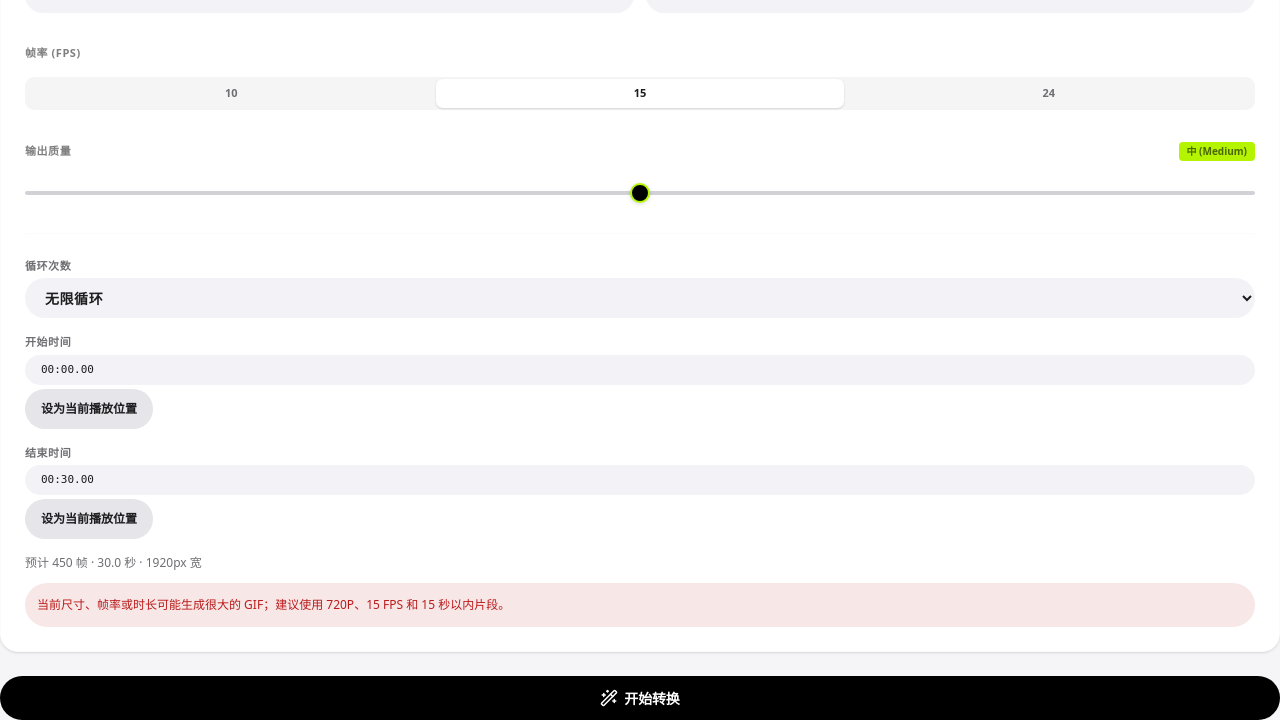
Test: GifMaker time range validation › shows validation error and skips create_gif when start time is greater than end time
(page scrolled)
Type "00:10.00" into the field labelled "开始时间".
click(640, 370); type("00:10.00")  # box [25,354,1255,384]
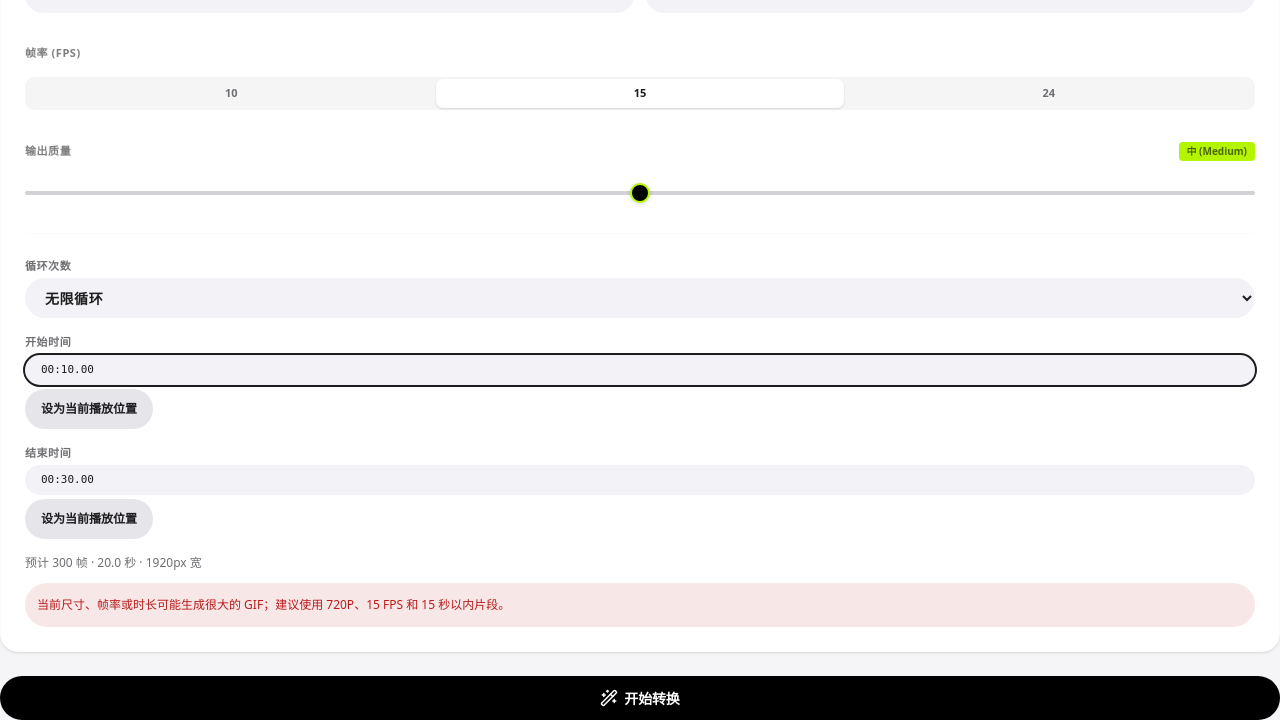
Replace the text in the field labelled "结束时间" with "00:05.00" at (640, 480), box [25,465,1255,495]
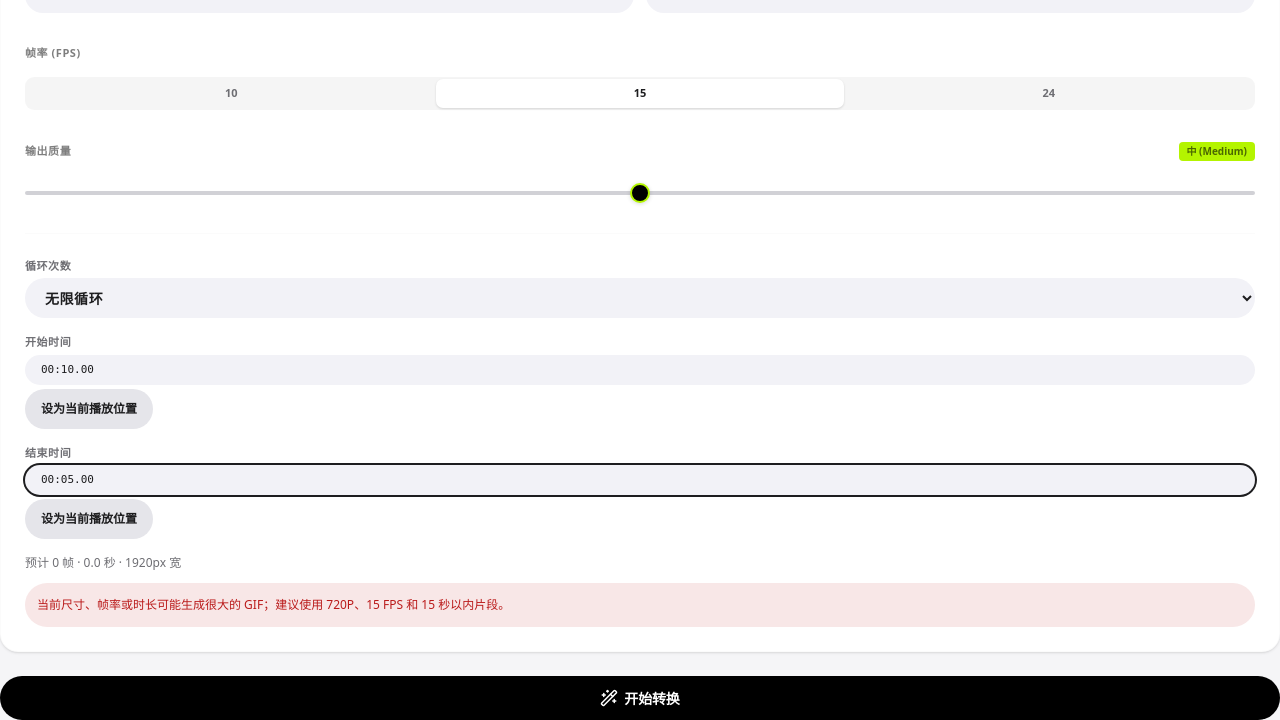
Click the button "开始转换".
click(640, 698)  # box [0,676,1279,719]
(page scrolled)
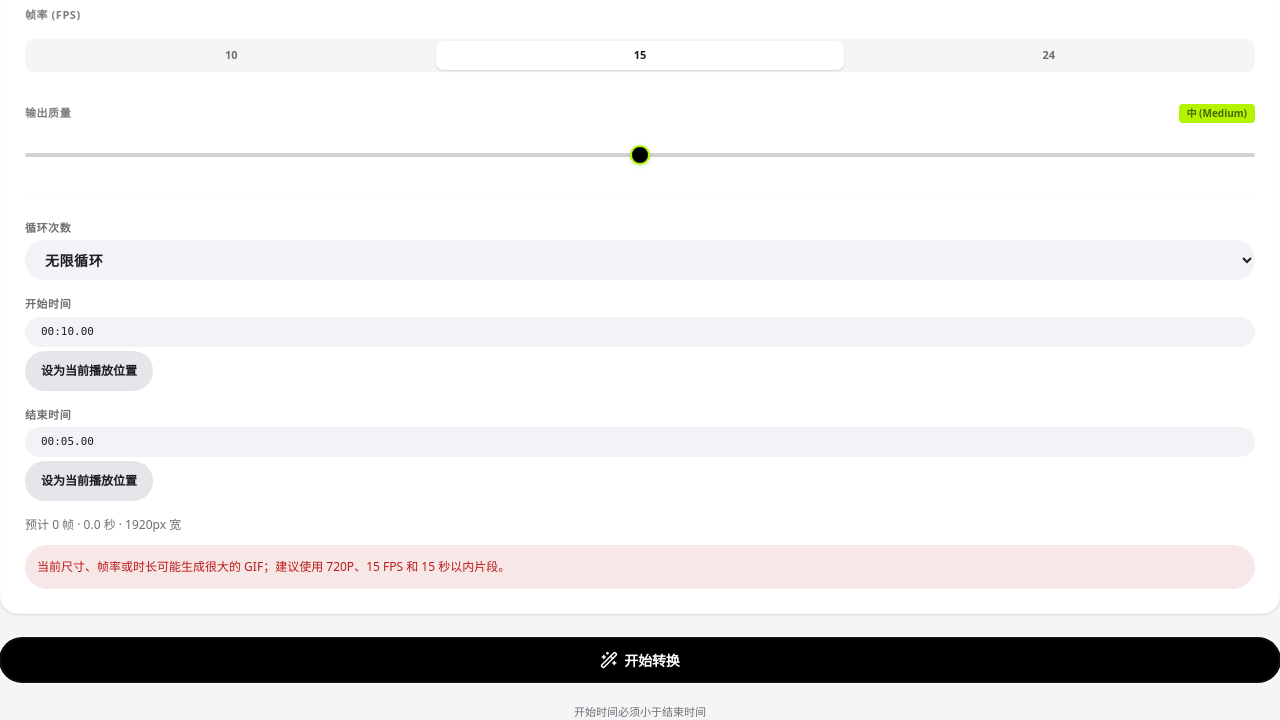
expect the text "开始时间必须小于结束时间" is shown: met, box [574,706,706,719]
